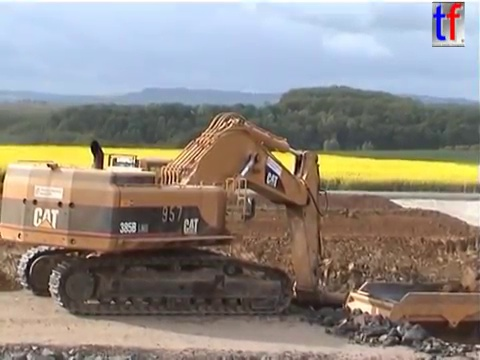excavator: (1, 110, 360, 319)
truck: (341, 278, 480, 360)
